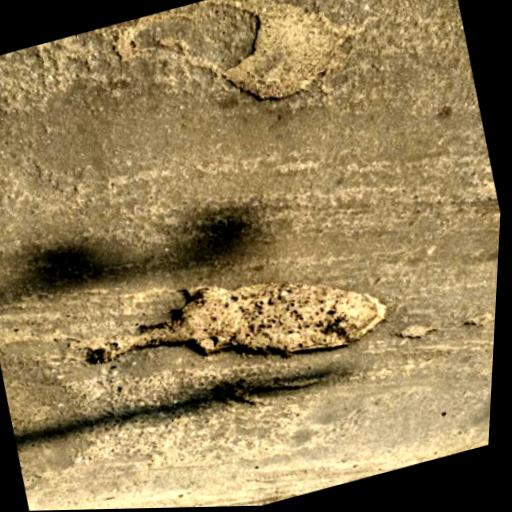pothole: (69, 235, 402, 419), (202, 0, 352, 116), (206, 354, 329, 420), (397, 318, 440, 347)
